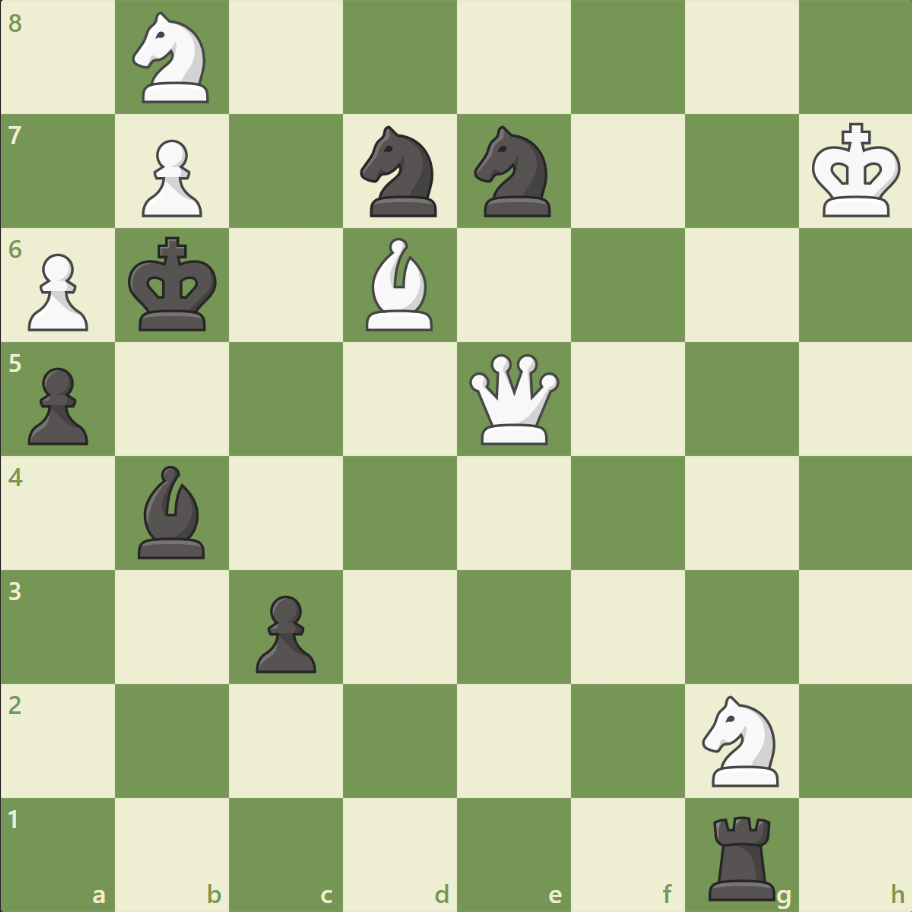B: (358, 233, 442, 336)
K: (806, 117, 906, 225)
N: (124, 7, 222, 110), (692, 688, 789, 791)
P: (133, 132, 208, 223), (20, 246, 95, 337)
Q: (464, 349, 563, 449)
b: (131, 460, 215, 563)
k: (124, 231, 224, 339)
n: (351, 121, 449, 223), (465, 121, 562, 223)
p: (20, 359, 95, 450), (247, 586, 322, 677)
r: (700, 806, 783, 904)
